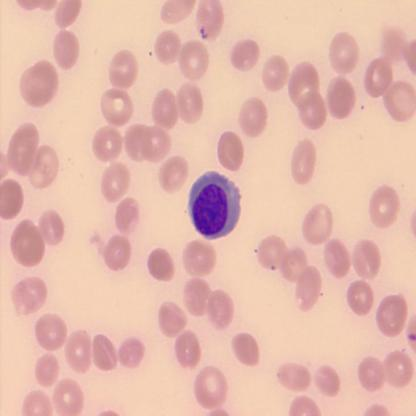NRC: (186, 167, 242, 242)
